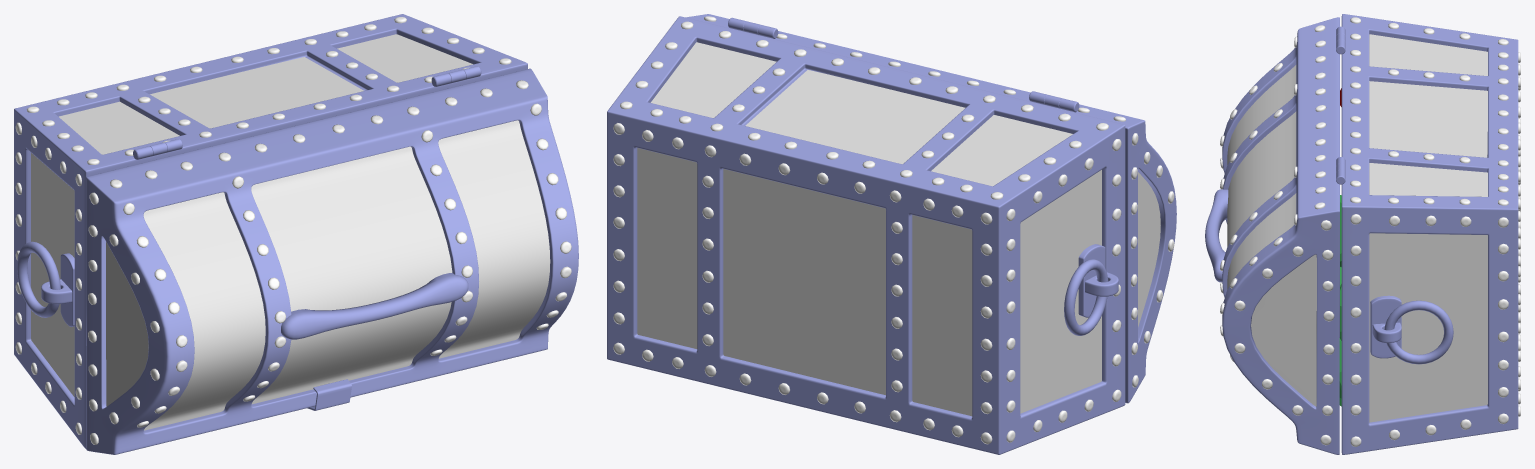
Rendered from takaraTozi 2.fbx.
3 views of the same model, side by side, from view 1: azimuth 30°, elevation 25°; view 2: azimuth 150°, elevation 25°; view 3: azimuth 270°, elevation 25° (orthographic). The views are drawn at different scales.
Visible parts, largest first — view 1: _aquarium_treasure_chest_v1_L2:aquarium_treasure_chest_metal, _aquarium_treasure_chest_v1_L2:aquarium_treasure_chest_wood, _aquarium_treasure_chest_v1_L2:aquarium_treasure_chest_bolts, _aquarium_treasure_chest_v1_L2:aquarium_treasure_chest_latch; view 2: _aquarium_treasure_chest_v1_L2:aquarium_treasure_chest_wood, _aquarium_treasure_chest_v1_L2:aquarium_treasure_chest_metal, _aquarium_treasure_chest_v1_L2:aquarium_treasure_chest_bolts, _aquarium_treasure_chest_v1_L2:aquarium_treasure_chest_latch; view 3: _aquarium_treasure_chest_v1_L2:aquarium_treasure_chest_metal, _aquarium_treasure_chest_v1_L2:aquarium_treasure_chest_wood, _aquarium_treasure_chest_v1_L2:aquarium_treasure_chest_bolts, _aquarium_treasure_chest_v1_L2:aquarium_treasure_chest_latch, _aquarium_treasure_chest_v1_L2:aquarium_treasure_chest_stone.
Part boxes in pixels (left/top/right/bottom): _aquarium_treasure_chest_v1_L2:aquarium_treasure_chest_metal: left=14, top=14, right=578, bottom=454; _aquarium_treasure_chest_v1_L2:aquarium_treasure_chest_wood: left=31, top=34, right=550, bottom=430; _aquarium_treasure_chest_v1_L2:aquarium_treasure_chest_bolts: left=15, top=17, right=571, bottom=444; _aquarium_treasure_chest_v1_L2:aquarium_treasure_chest_latch: left=41, top=66, right=481, bottom=410; _aquarium_treasure_chest_v1_L2:aquarium_treasure_chest_wood: left=637, top=42, right=1160, bottom=416; _aquarium_treasure_chest_v1_L2:aquarium_treasure_chest_metal: left=607, top=14, right=1176, bottom=454; _aquarium_treasure_chest_v1_L2:aquarium_treasure_chest_bolts: left=613, top=16, right=1174, bottom=444; _aquarium_treasure_chest_v1_L2:aquarium_treasure_chest_latch: left=728, top=17, right=1118, bottom=317; _aquarium_treasure_chest_v1_L2:aquarium_treasure_chest_metal: left=1205, top=14, right=1518, bottom=454; _aquarium_treasure_chest_v1_L2:aquarium_treasure_chest_wood: left=1227, top=34, right=1487, bottom=422; _aquarium_treasure_chest_v1_L2:aquarium_treasure_chest_bolts: left=1220, top=17, right=1520, bottom=446; _aquarium_treasure_chest_v1_L2:aquarium_treasure_chest_latch: left=1336, top=26, right=1401, bottom=358; _aquarium_treasure_chest_v1_L2:aquarium_treasure_chest_stone: left=1339, top=195, right=1341, bottom=406.
Bounding box in the file's own units: 14.7 × 8.74 × 9.45.
